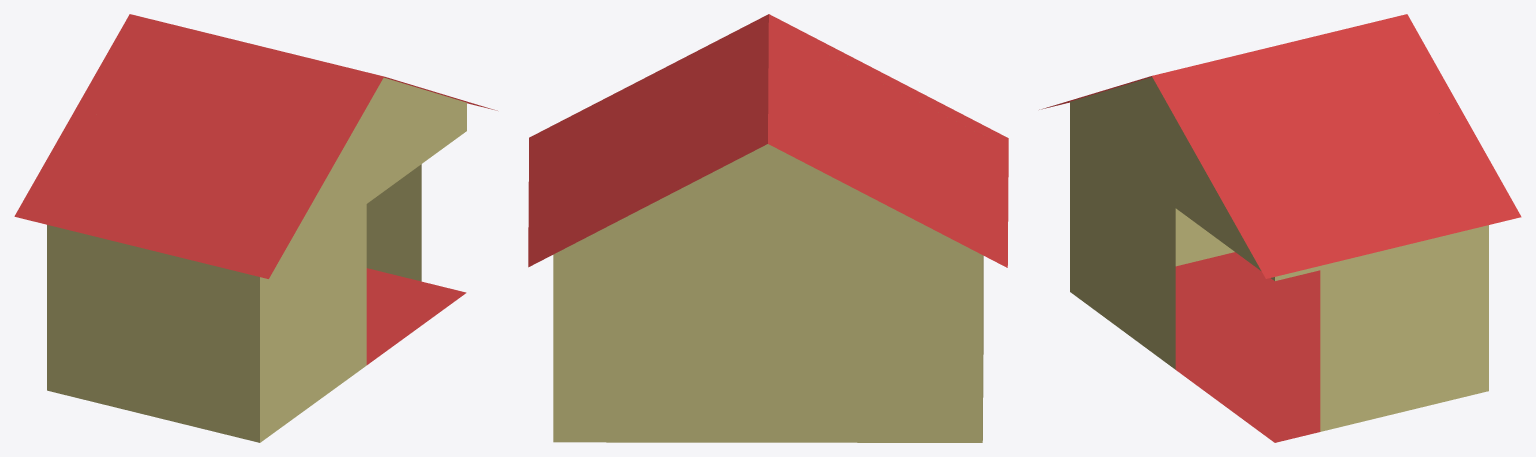
3 views of the same model, side by side, from view 1: azimuth 30°, elevation 25°; view 2: azimuth 150°, elevation 25°; view 3: azimuth 270°, elevation 25° (orthographic). The views are drawn at different scales.
Size of the model in its own units: 17.02 by 15.12 by 10.21.
